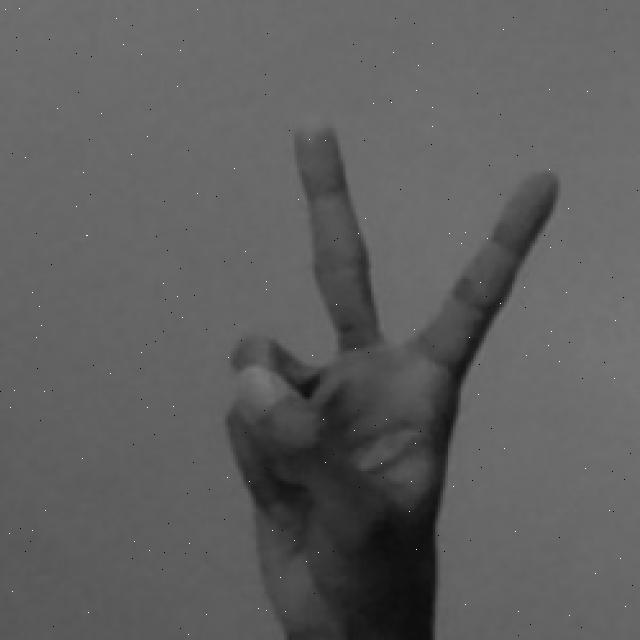V: (206, 112, 566, 640)
